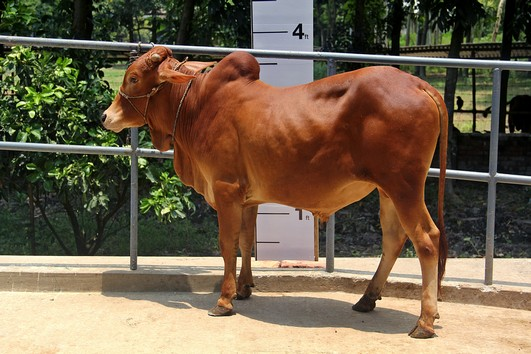cow: (99, 36, 455, 341)
